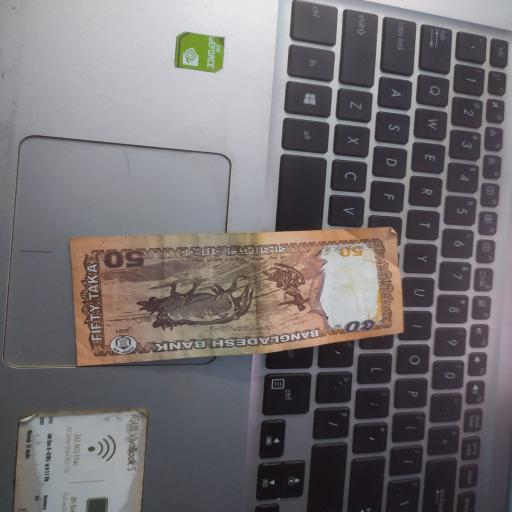50taka: (70, 225, 405, 365)
